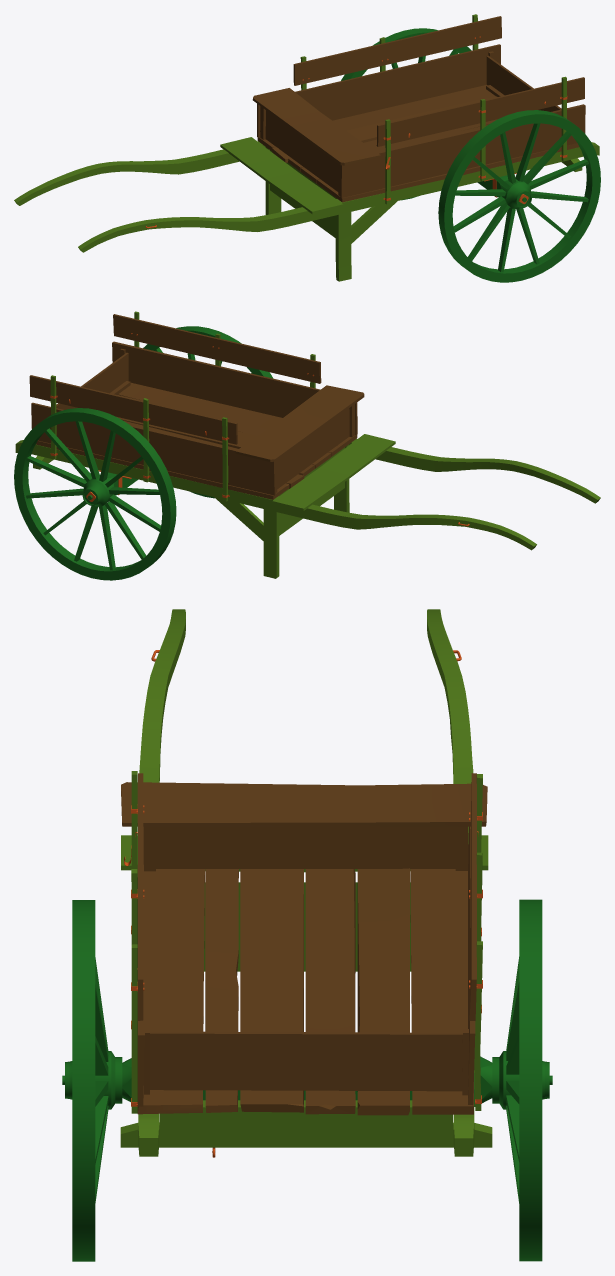
Rendered from Cart.FBX.
3 views of the same model, one above another, from view 1: azimuth 30°, elevation 25°; view 2: azimuth 150°, elevation 25°; view 3: azimuth 270°, elevation 25° (orthographic). The views are drawn at different scales.
Visible parts, largest first — view 1: body_3, body_2, base_2, wheel_3, body_5, body_1, wheel_2, base_1, base_3, base_4, body_4, wheel_1 (+1 smaller); view 2: body_2, body_3, base_2, wheel_009, body_5, body_1, wheel_012, base_1, base_3, base_4, body_4, wheel_3 (+1 smaller); view 3: body_1, body_5, body_4, base_4 (×2), base_2, wheel_009, wheel_3, body_3, wheel_012, body_2, wheel_2, wheel_011 (+3 smaller).
Part boxes in pixels (x1,y1,x2,y2): body_3: (257,16,501,137); body_2: (340,77,585,197); base_2: (14,141,599,252); wheel_3: (438,110,600,282); body_5: (252,88,380,195); body_1: (257,85,579,202); wheel_2: (453,123,588,272); base_1: (220,137,343,214); base_3: (265,147,397,281); base_4: (300,14,566,204); body_4: (486,51,561,111); wheel_1: (500,179,532,208); body_2: (112,314,357,434); body_3: (29,375,275,495); base_2: (15,439,600,550); wheel_009: (14,408,176,580); body_5: (235,385,364,492); body_1: (36,382,357,499); wheel_012: (26,421,160,570); base_1: (272,434,395,510); base_3: (214,444,349,578); base_4: (50,311,315,501); body_4: (56,348,130,409); wheel_3: (143,326,273,498); body_1: (137,865,473,1115); body_5: (121,782,487,871); body_4: (144,1029,468,1095); base_4 (×2): (120,771,492,1147); base_2: (138,609,474,1156); wheel_009: (519,899,542,1261); wheel_3: (72,900,95,1261); body_3: (468,773,476,1105); wheel_012: (506,957,519,1203); body_2: (138,773,144,1106); wheel_2: (95,957,108,1202); wheel_011: (492,1051,549,1109).
Bounding box in the file's own units: 129 × 42.86 × 53.56.
